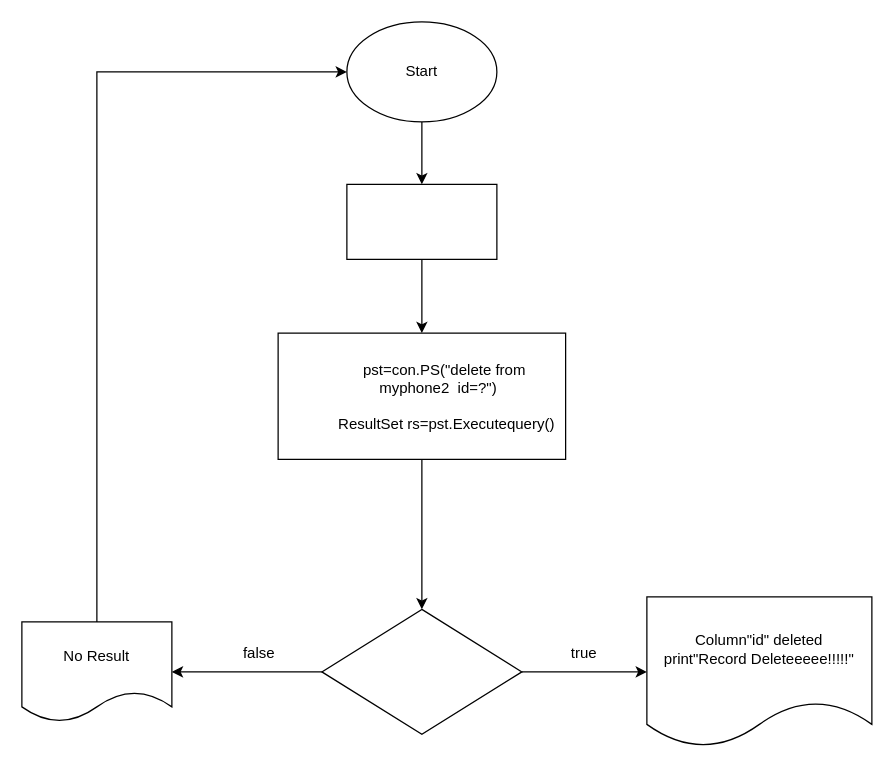
Some shapes in this 894 by 769 pixel diagram are drawn without their labels. Here are the shapes that lost their labels. From the top down, the centre of each, then its label:
At point (421, 221): "String search".
At point (421, 671): "rs".
